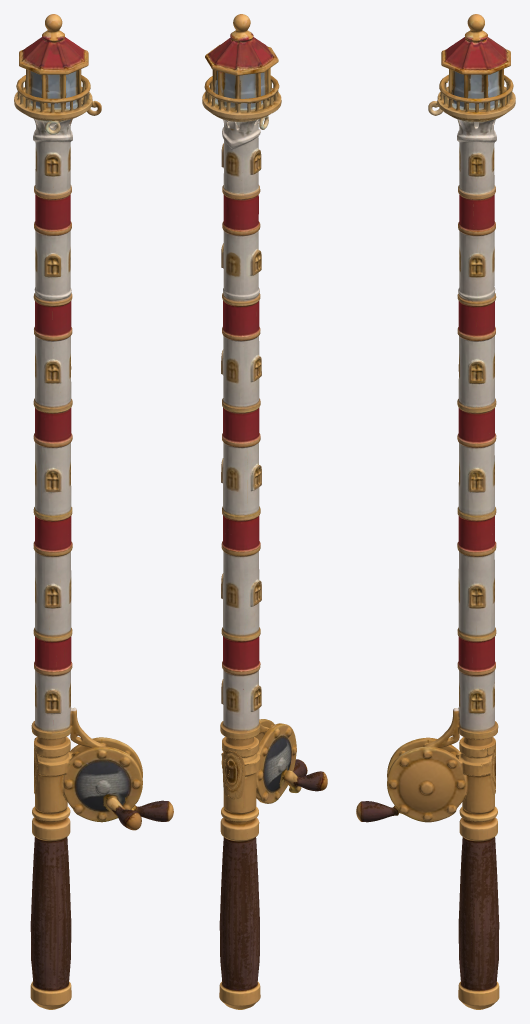
File: rod-lighthouse.glb
The picture shows the model from 3 angles, left to right: view 1: azimuth 90°, elevation 25°; view 2: azimuth 150°, elevation 25°; view 3: azimuth 270°, elevation 25°; orthographic projection.
Parts seen in each view (by area): view 1: rod-lighthouse; view 2: rod-lighthouse; view 3: rod-lighthouse.
Boxes of the visible parts, x1,y1,x2,y2 form: rod-lighthouse: (14,14,173,1009); rod-lighthouse: (202,14,327,1009); rod-lighthouse: (356,14,515,1009).
Size of the model in its own units: 0.1011 by 1.2 by 0.1749.
Materials: 1 (1 with a texture image).
